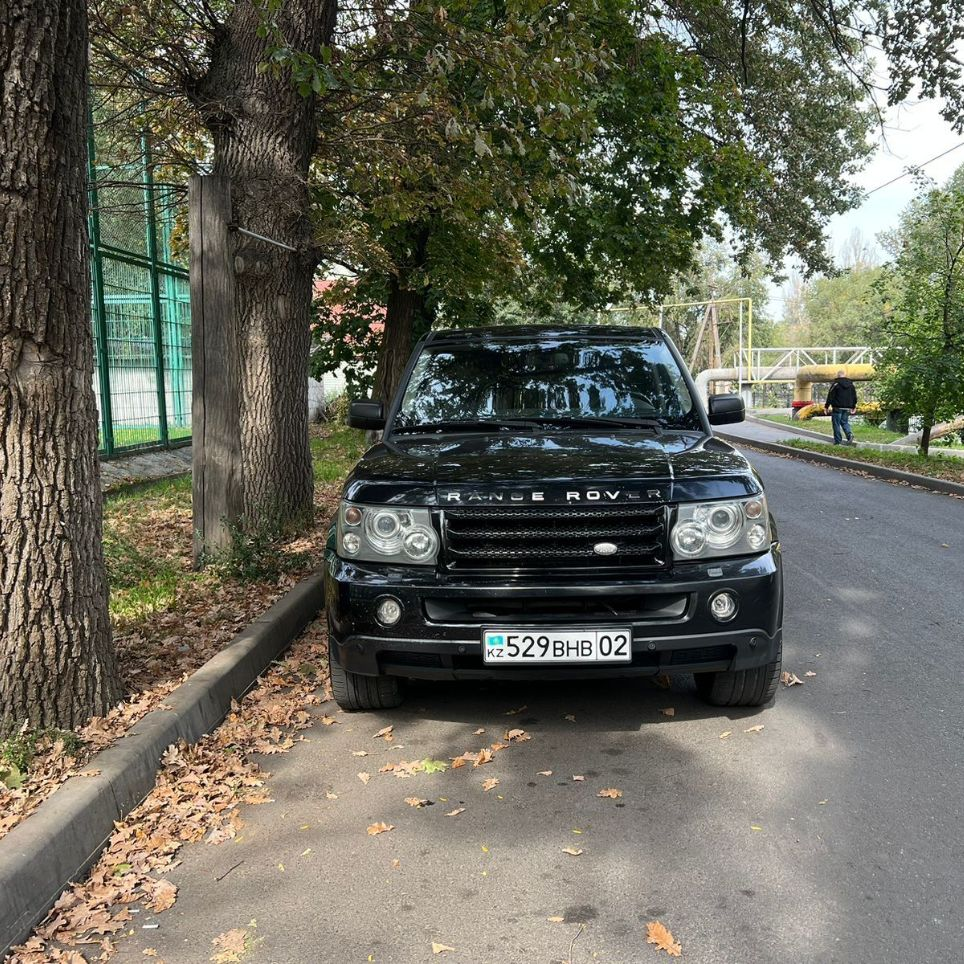license plate: (482, 631, 632, 660)
truck: (335, 320, 785, 726)
